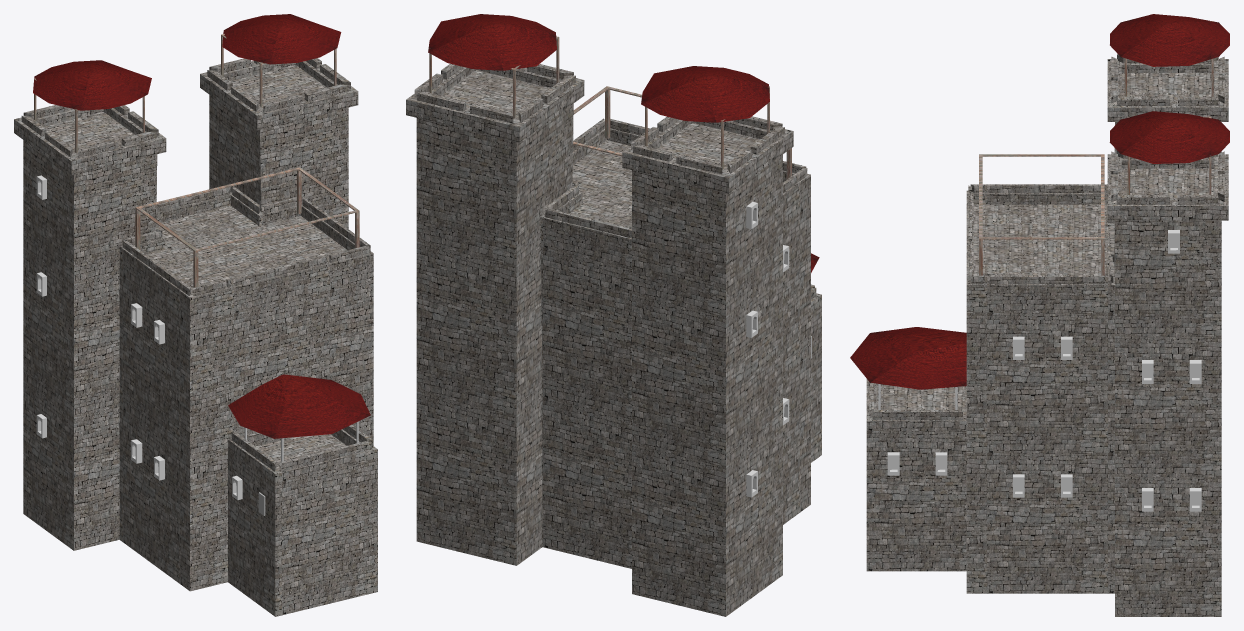
The model's file is Castle.FBX.
3 renders of one model, left to right at view 1: azimuth 30°, elevation 25°; view 2: azimuth 150°, elevation 25°; view 3: azimuth 270°, elevation 25°, orthographic. The views are drawn at different scales.
Parts seen in each view (by area): view 1: Castle, Pyramid001, Pyramid002, Pyramid003, CenterPoles; view 2: Castle, Pyramid002, Pyramid003, CenterPoles; view 3: Castle, Pyramid001, Pyramid003, Pyramid002, CenterPoles.
Boxes of the visible parts, x1,y1,x2,y2 form: Castle: [14, 58, 377, 616]; Pyramid001: [228, 374, 370, 438]; Pyramid002: [33, 60, 151, 110]; Pyramid003: [222, 14, 341, 64]; CenterPoles: [135, 167, 359, 287]; Castle: [406, 63, 821, 616]; Pyramid002: [641, 66, 769, 122]; Pyramid003: [428, 14, 556, 70]; CenterPoles: [573, 86, 791, 179]; Castle: [866, 54, 1228, 616]; Pyramid001: [850, 327, 966, 389]; Pyramid003: [1109, 111, 1229, 163]; Pyramid002: [1110, 14, 1229, 66]; CenterPoles: [979, 154, 1104, 275].
Bounding box in the file's own units: 117 × 125 × 172.
